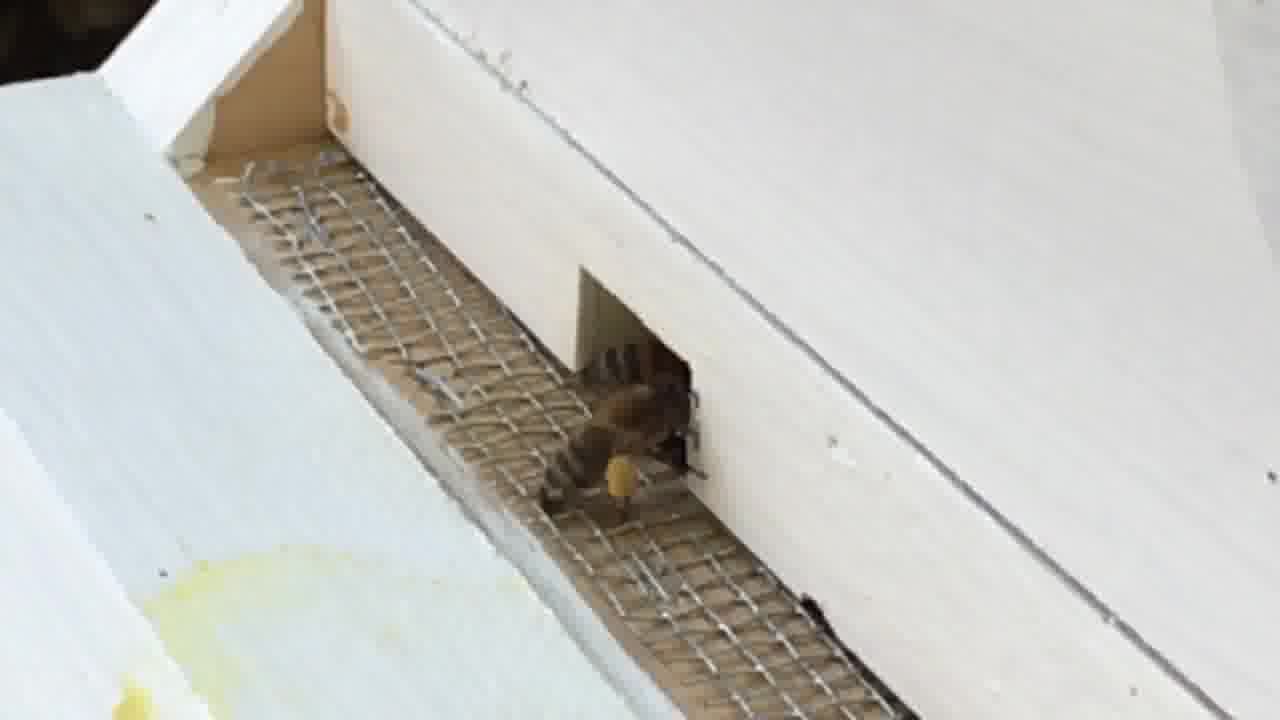pollen: (538, 375, 713, 518)
